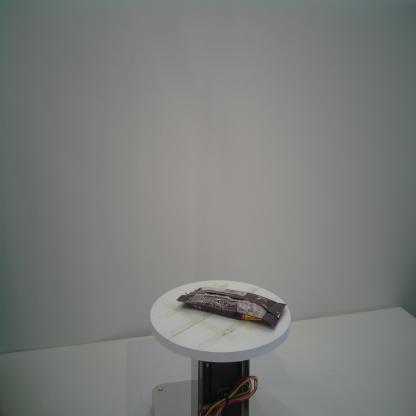Chocolate: (176, 286, 288, 330)
